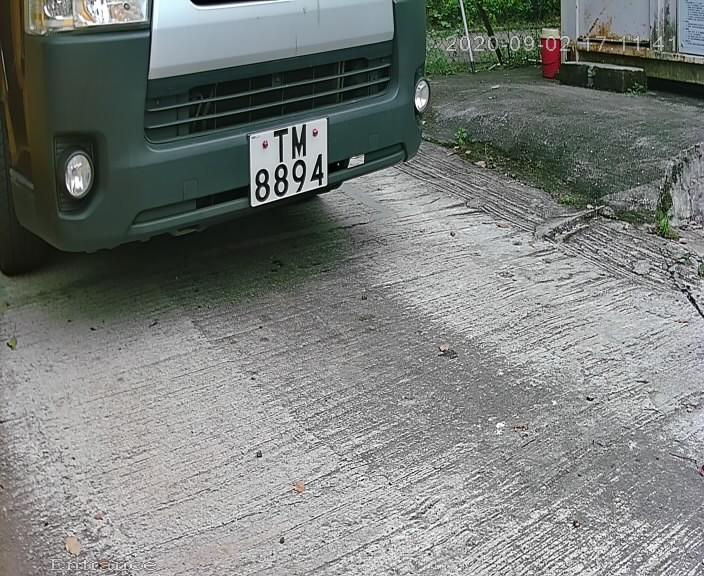License Plate: (239, 111, 337, 214)
